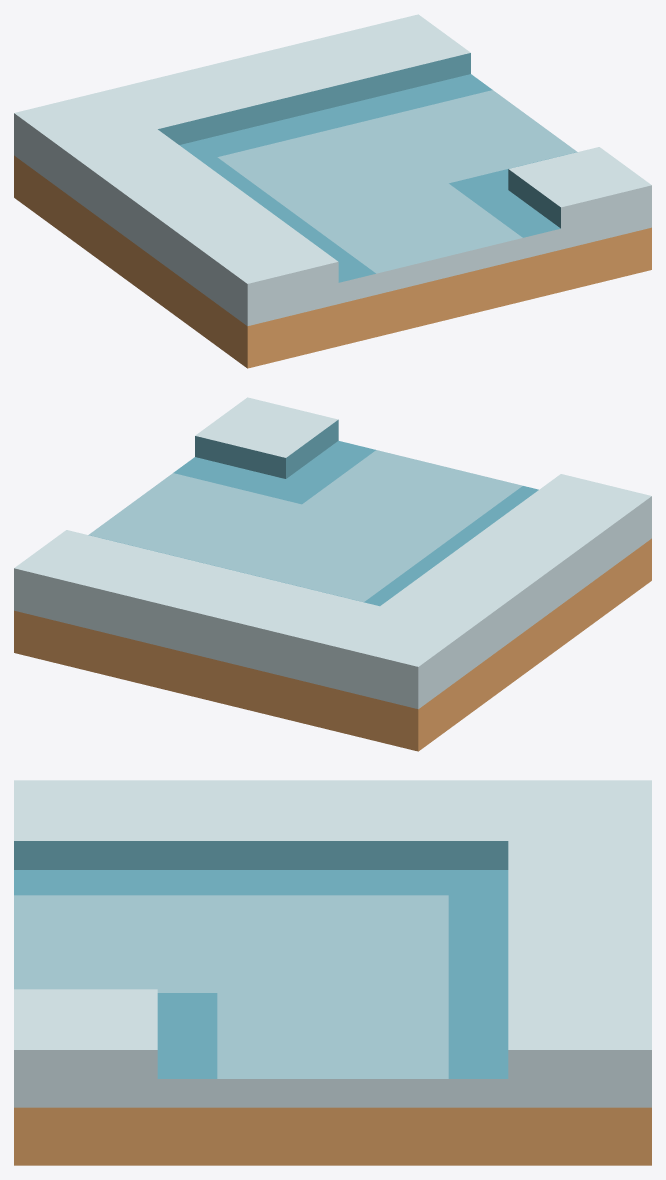
The model's file is snowTileCornerSquare.fbx.
The picture shows the model from 3 angles, top to bottom: view 1: azimuth 30°, elevation 25°; view 2: azimuth 150°, elevation 25°; view 3: azimuth 270°, elevation 25°; orthographic projection. The views are drawn at different scales.
Visible parts, largest first — view 1: snow_tile_cornerSquare; view 2: snow_tile_cornerSquare; view 3: snow_tile_cornerSquare.
Part boxes in pixels (x1=…): snow_tile_cornerSquare: x1=14, y1=14, x2=651, y2=368; snow_tile_cornerSquare: x1=14, y1=397, x2=651, y2=751; snow_tile_cornerSquare: x1=14, y1=780, x2=651, y2=1165.
Size of the model in its own units: 39.37 by 7.87 by 39.37.
